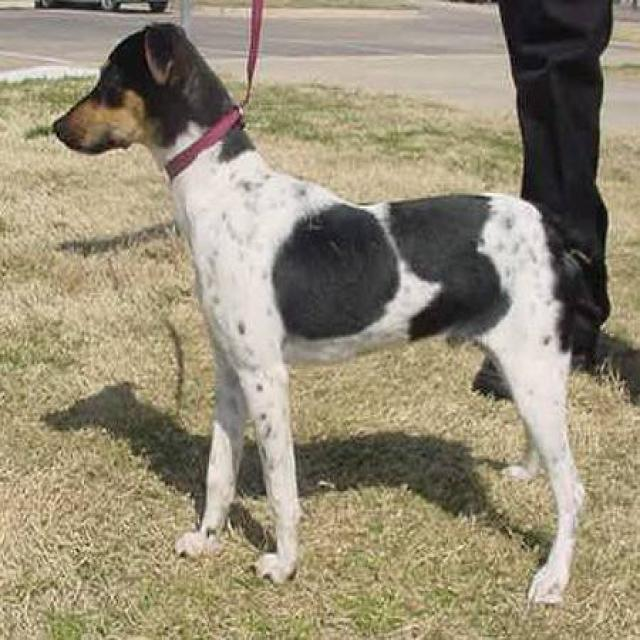adult_dog: (50, 18, 591, 611)
